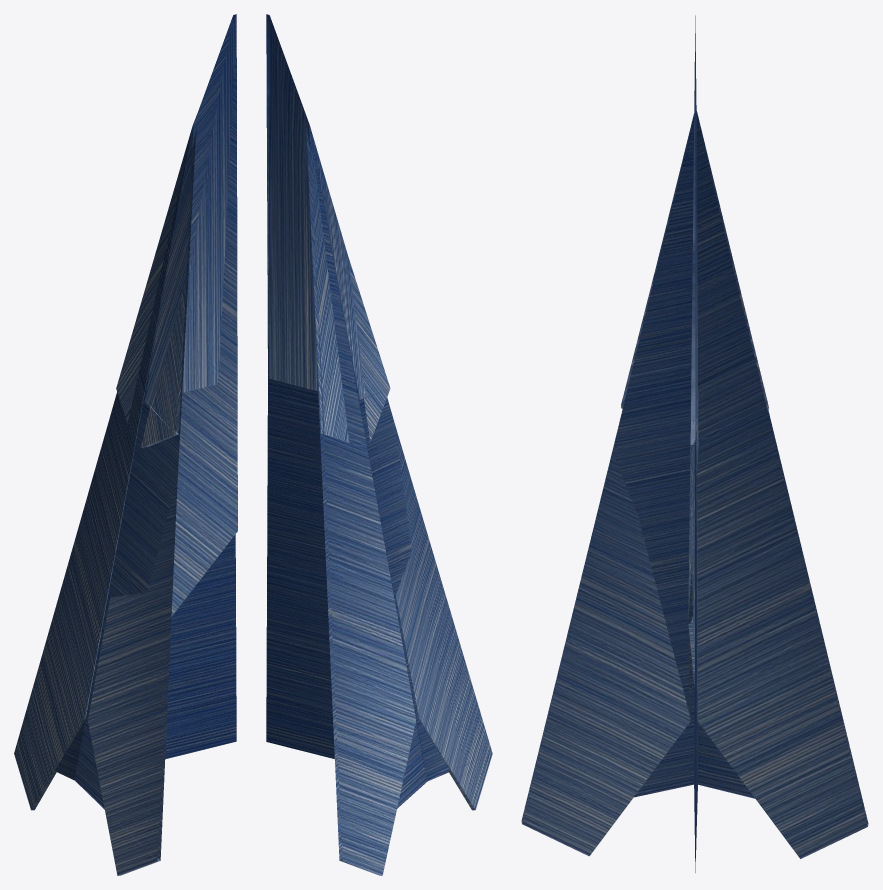
3 views of the same model, side by side, from view 1: azimuth 30°, elevation 25°; view 2: azimuth 150°, elevation 25°; view 3: azimuth 270°, elevation 25° (orthographic). The views are drawn at different scales.
Visible parts, largest first — view 1: Origami_Model_39.001; view 2: Origami_Model_39.001; view 3: Origami_Model_39.001.
Boxes of the visible parts, left/top/right/bottom form: Origami_Model_39.001: left=14, top=14, right=237, bottom=875; Origami_Model_39.001: left=266, top=14, right=492, bottom=875; Origami_Model_39.001: left=521, top=15, right=868, bottom=872.
Size of the model in its own units: 0.0473 by 0.2173 by 0.0732.
Materials: 1 (1 with a texture image).
